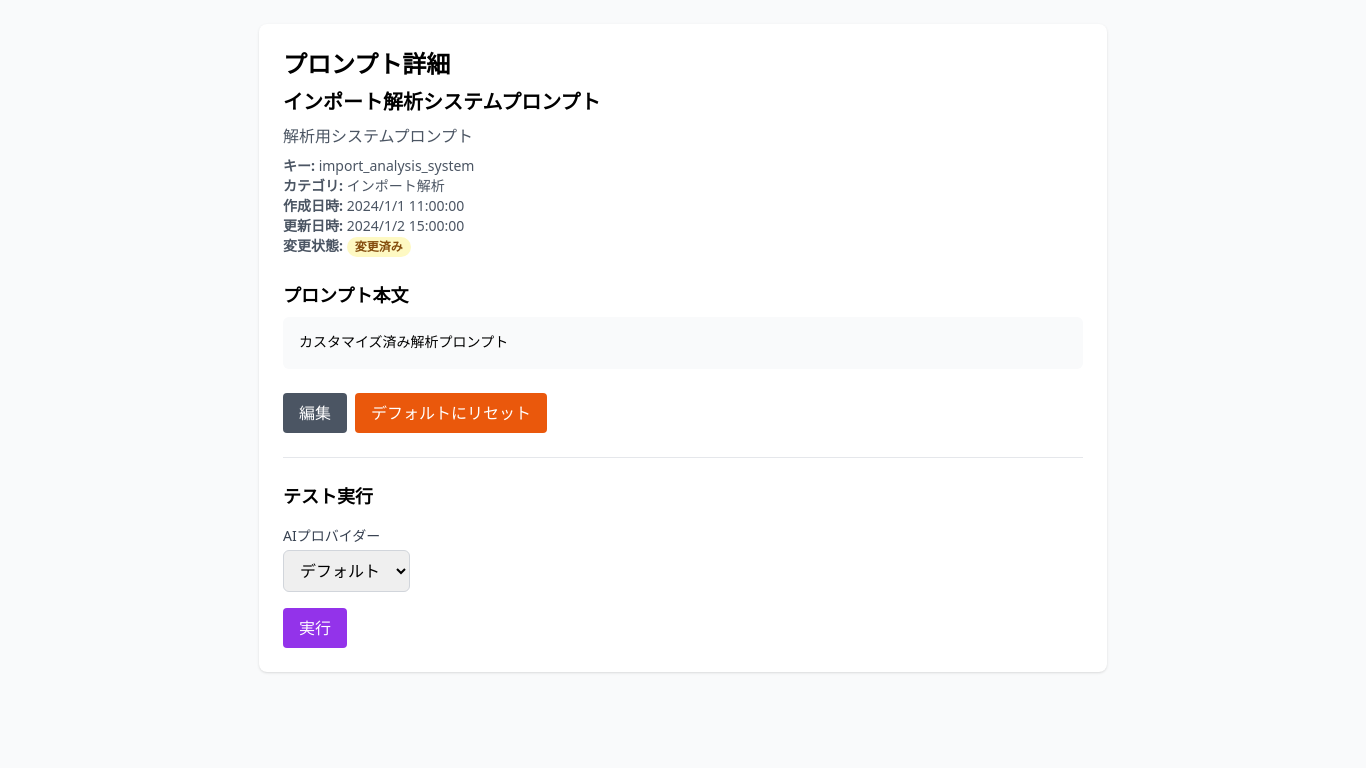
Test: Prompt Integration Tests - Critical Paths › Default Reset Flow › shows confirmation dialog with diff when reset clicked
Expected: the heading "インポート解析システムプロンプト" is shown, [283, 88, 601, 115]
# リセットボタンをクリック
Click the button "デフォルトにリセット" at (451, 413), box [355, 393, 547, 433]
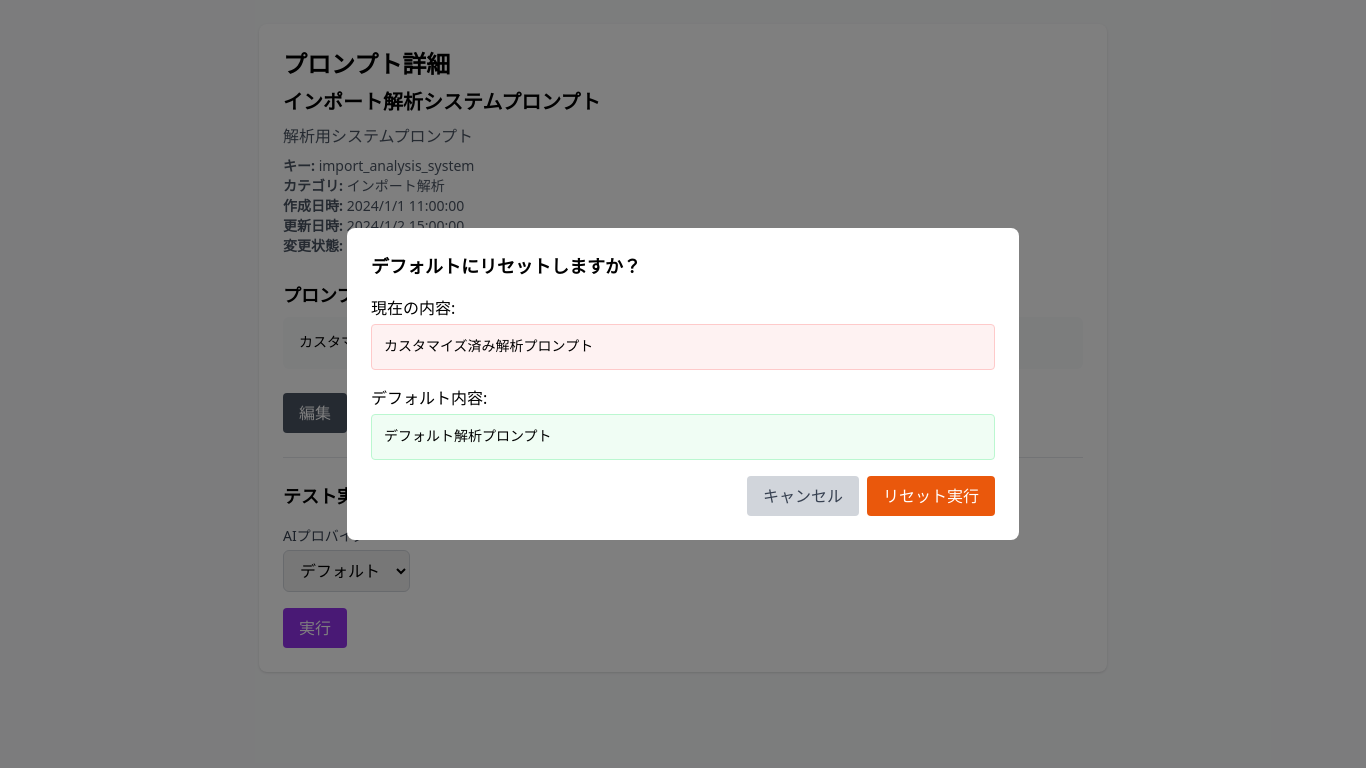
Expected: the heading "デフォルトにリセットしますか？" is shown, [371, 254, 641, 278]
Expected: the heading "現在の内容:" is shown, [371, 297, 455, 319]
Expected: the heading "デフォルト内容:" is shown, [371, 387, 487, 409]
